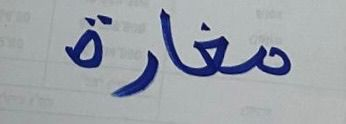alef: (158, 6, 181, 81)
ghain: (184, 19, 236, 82)
noon: (239, 33, 296, 84)
sad: (113, 47, 157, 100)
thal: (52, 7, 112, 76)
